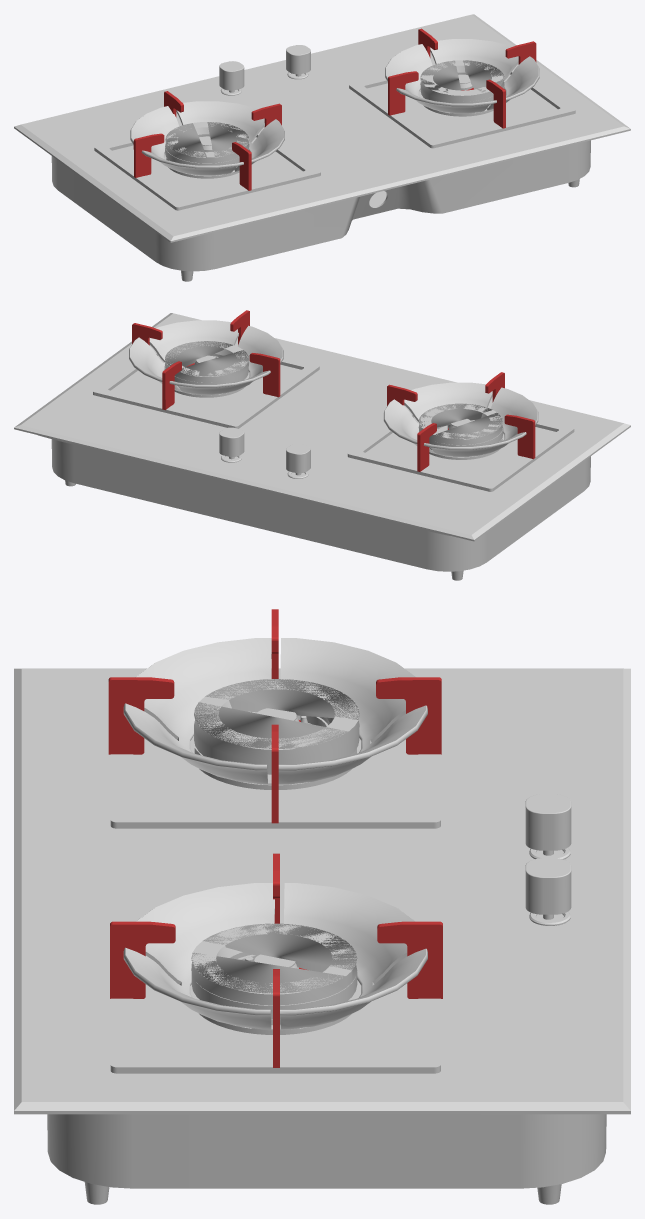
Rendered from 灶具-jzx-qs02b_asm.fbx.
3 renders of one model, top to bottom at view 1: azimuth 30°, elevation 25°; view 2: azimuth 150°, elevation 25°; view 3: azimuth 270°, elevation 25°, orthographic. The views are drawn at different scales.
Visible parts, largest first — view 1: 大面板, 底盘_1, 灶台圆盘_已剪洞_1_2, 灶台圆盘_已剪洞_1, 灶台打包_右, 灶台打包_左, 灶台顶部_1, 灶台顶部_1_2, 克隆_1_2, 克隆_1, 燃气开关_右, 燃气开关_左; view 2: 大面板, 底盘_1, 灶台圆盘_已剪洞_1, 灶台圆盘_已剪洞_1_2, 灶台打包_右, 灶台打包_左, 灶台顶部_1_2, 灶台顶部_1, 克隆_1_2, 克隆_1, 燃气开关_左, 燃气开关_右; view 3: 大面板, 底盘_1, 灶台圆盘_已剪洞_1, 灶台圆盘_已剪洞_1_2, 灶台顶部_1_2, 灶台顶部_1, 灶台打包_左, 灶台打包_右, 克隆_1, 克隆_1_2, 燃气开关_左, 燃气开关_右 (+5 smaller).
Part boxes in pixels (box(x1,y1,x2,y2)): 大面板: box(14, 14, 630, 242); 底盘_1: box(51, 140, 590, 271); 灶台圆盘_已剪洞_1_2: box(385, 39, 539, 113); 灶台圆盘_已剪洞_1: box(130, 101, 284, 175); 灶台打包_右: box(94, 125, 320, 210); 灶台打包_左: box(349, 63, 575, 148); 灶台顶部_1: box(165, 122, 249, 163); 灶台顶部_1_2: box(420, 60, 504, 101); 克隆_1_2: box(388, 28, 536, 128); 克隆_1: box(133, 91, 281, 190); 燃气开关_右: box(219, 61, 244, 90); 燃气开关_左: box(286, 45, 310, 74); 大面板: box(14, 313, 630, 541); 底盘_1: box(38, 435, 590, 571); 灶台圆盘_已剪洞_1: box(383, 382, 538, 456); 灶台圆盘_已剪洞_1_2: box(129, 320, 283, 394); 灶台打包_右: box(347, 406, 574, 491); 灶台打包_左: box(93, 345, 319, 428); 灶台顶部_1_2: box(165, 341, 248, 382); 灶台顶部_1: box(418, 403, 502, 445); 克隆_1_2: box(132, 310, 280, 410); 克隆_1: box(387, 372, 535, 471); 燃气开关_左: box(219, 427, 244, 456); 燃气开关_右: box(286, 444, 310, 473); 大面板: box(14, 668, 630, 1114); 底盘_1: box(47, 1114, 606, 1188); 灶台圆盘_已剪洞_1: box(123, 638, 427, 784); 灶台圆盘_已剪洞_1_2: box(123, 883, 427, 1029); 灶台顶部_1_2: box(191, 923, 357, 1005); 灶台顶部_1: box(194, 679, 359, 760); 灶台打包_左: box(110, 998, 440, 1073); 灶台打包_右: box(110, 754, 440, 828); 克隆_1: box(108, 609, 441, 823); 克隆_1_2: box(110, 853, 442, 1067); 燃气开关_左: box(525, 858, 571, 914); 燃气开关_右: box(525, 794, 571, 850).
Size of the model in its own units: 759 by 171 by 447.
